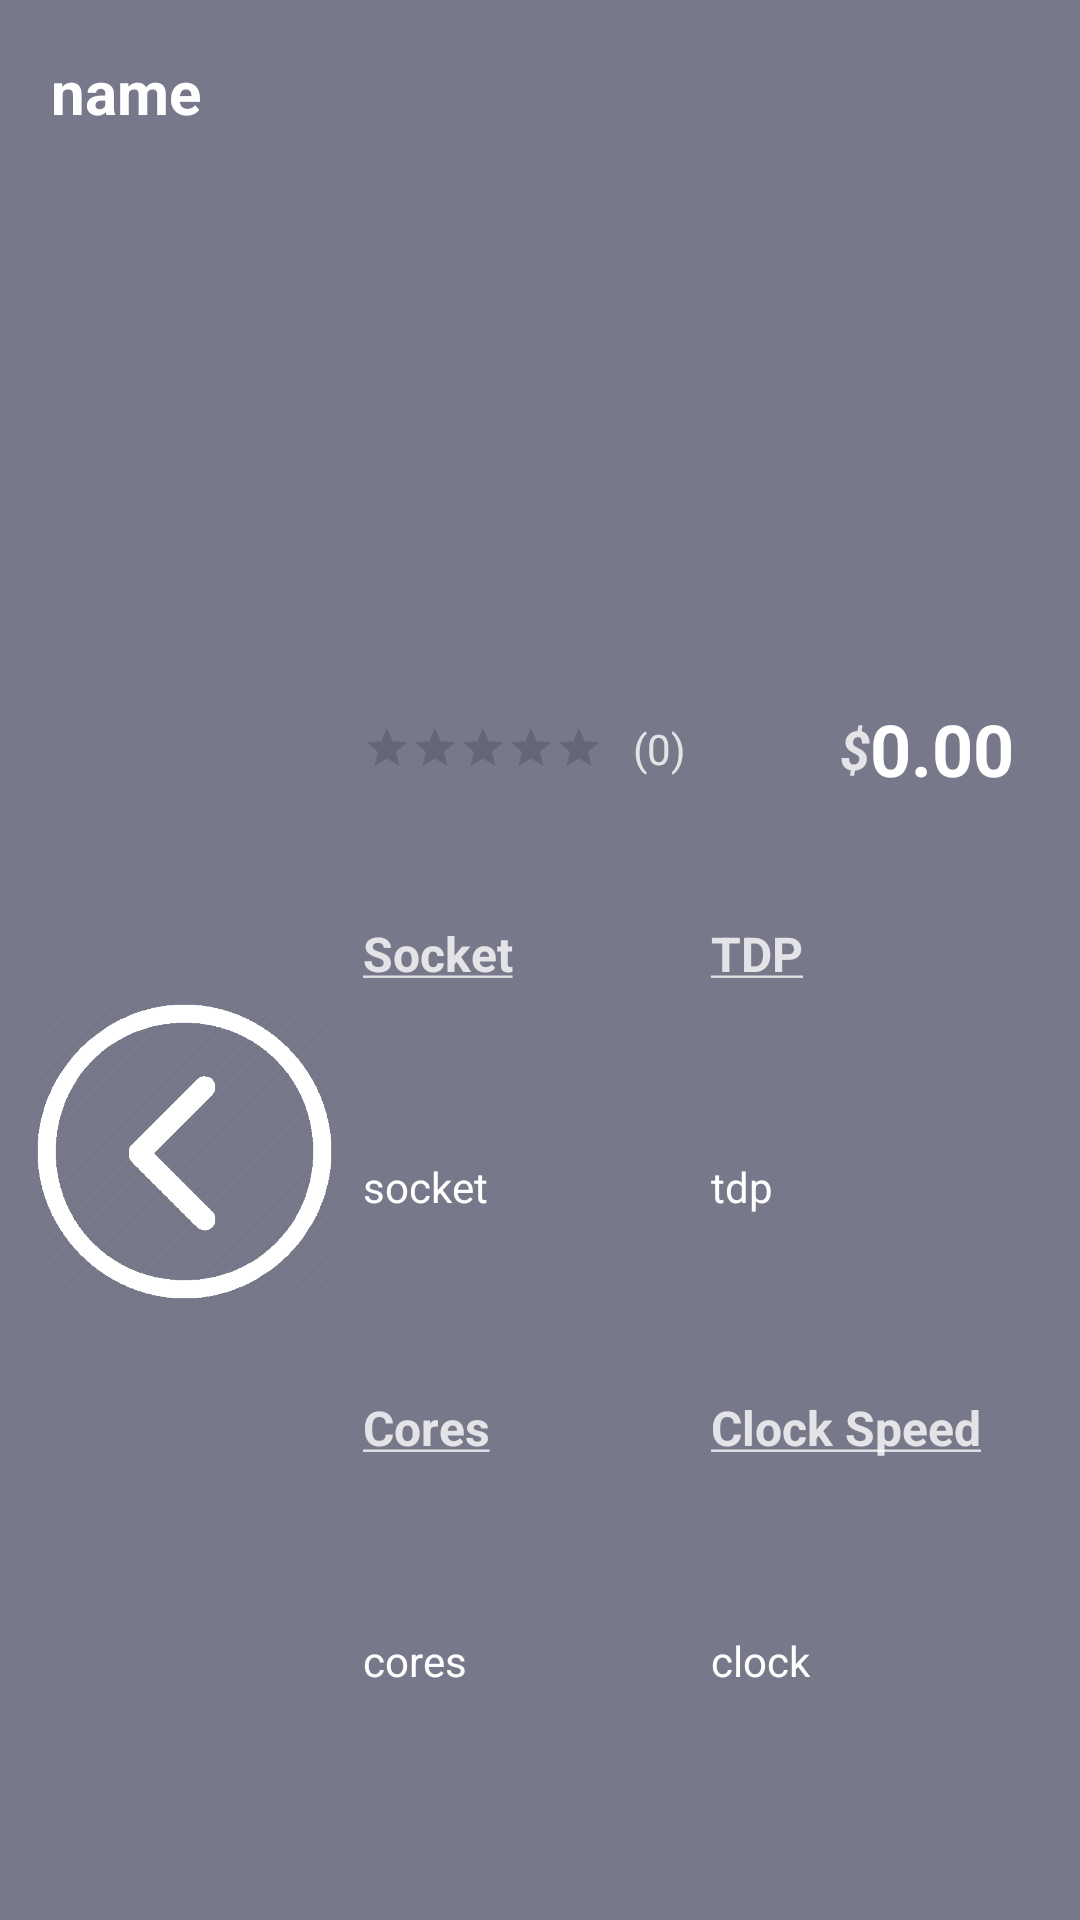

Screen size 1080*1920. Icon name, then its center in pixels as point (x, y):
back: point (184, 1151)
